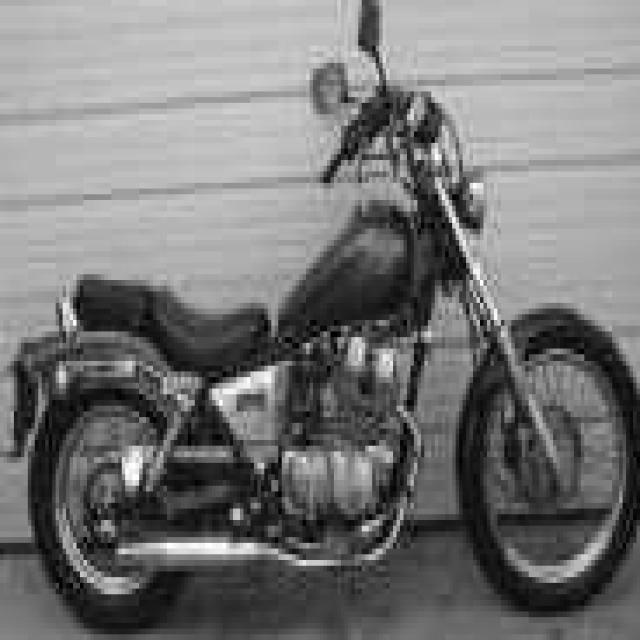Motorcycle: (15, 4, 640, 621)
